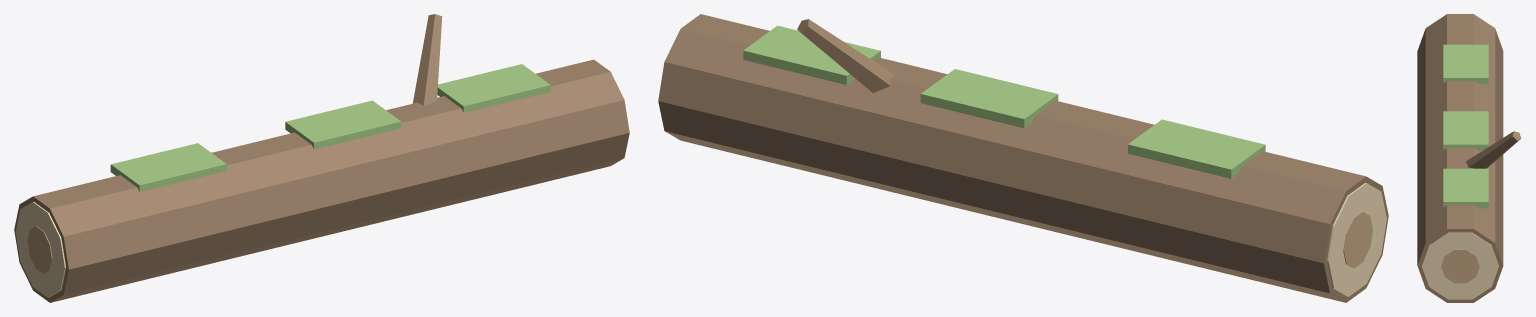
Rendered from Log_Fallen.fbx.
3 renders of one model, left to right at view 1: azimuth 30°, elevation 25°; view 2: azimuth 150°, elevation 25°; view 3: azimuth 270°, elevation 25°, orthographic. The views are drawn at different scales.
Parts seen in each view (by area): view 1: Log_Fallen_Mesh; view 2: Log_Fallen_Mesh; view 3: Log_Fallen_Mesh.
Boxes of the visible parts, bbox=[...] form: Log_Fallen_Mesh: bbox=[14, 14, 629, 302]; Log_Fallen_Mesh: bbox=[658, 14, 1388, 302]; Log_Fallen_Mesh: bbox=[1417, 14, 1521, 302].
Size of the model in its own units: 4.53 by 1.18 by 0.9204.
